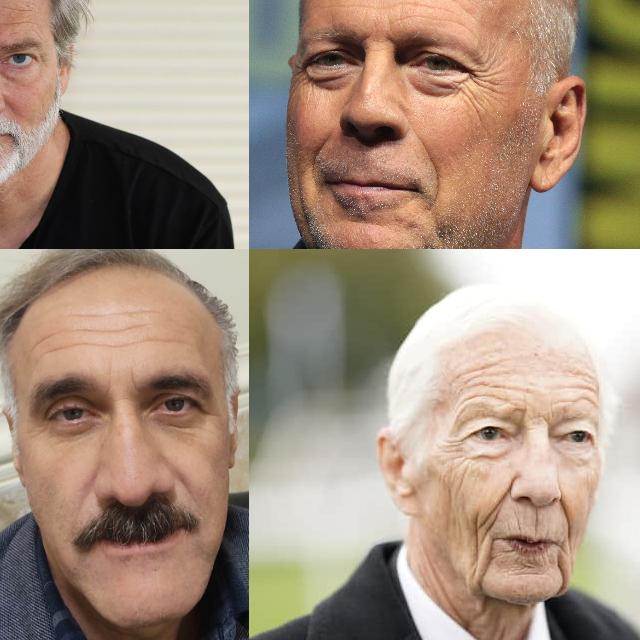crows_feet: (462, 57, 496, 113), (441, 434, 465, 458), (202, 401, 224, 424)
forehead: (82, 305, 140, 337), (28, 322, 76, 358), (462, 368, 512, 400), (86, 330, 138, 358), (371, 0, 434, 23), (148, 324, 192, 350), (563, 376, 601, 404), (1, 14, 33, 32)
frown_line: (98, 367, 115, 393), (530, 409, 552, 429), (125, 370, 143, 392)
gummy_smile: (412, 146, 452, 210), (484, 472, 514, 528), (307, 132, 333, 192), (170, 469, 200, 498), (554, 496, 574, 536)
masseter: (468, 512, 482, 564)
sad_smile: (477, 542, 498, 582), (554, 554, 568, 594)
smoker_lines: (528, 504, 542, 534)
